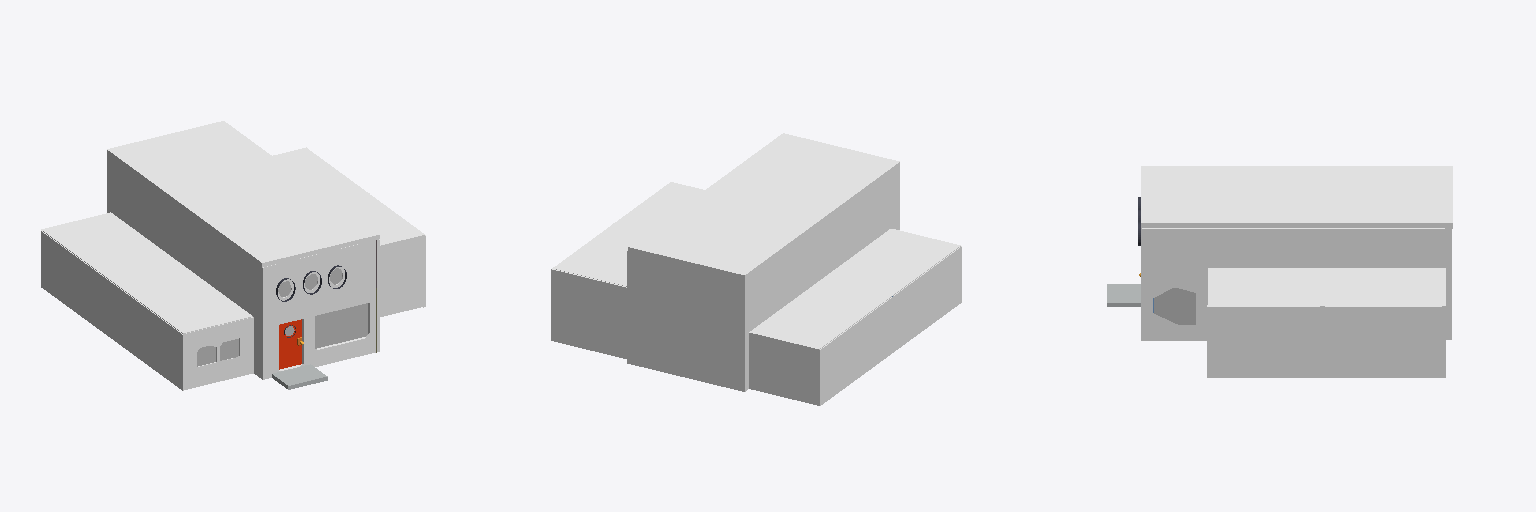
The picture shows the model from 3 angles: view 1: azimuth 30°, elevation 25°; view 2: azimuth 150°, elevation 25°; view 3: azimuth 270°, elevation 25°; orthographic projection.
Parts seen in each view (by area): view 1: pasted__pCube7 polySurface102, pasted__pCube7 polySurface55, pasted__pCube7 polySurface59, pasted__pCube7 polySurface87, pasted__pCube7 polySurface61, pasted__pCube7 polySurface101, pasted__pCube7 polySurface63, pasted__pCube7 polySurface118, pasted__pCube7 polySurface30, pasted__pCube7 polySurface117, pasted__pCube7 polySurface90; view 2: pasted__pCube7 polySurface102, pasted__pCube7 polySurface119, pasted__pCube7 polySurface55, pasted__pCube7 polySurface87, pasted__pCube7 polySurface61, pasted__pCube7 polySurface56, pasted__pCube7 polySurface101, pasted__pCube7 polySurface103; view 3: pasted__pCube7 polySurface102, pasted__pCube7 polySurface113, pasted__pCube7 polySurface115, pasted__pCube7 polySurface101, pasted__pCube7 polySurface34, pasted__pCube7 polySurface90, pasted__pCube7 polySurface119.
Boxes of the visible parts, box(x1,y1,x2,y2) form: pasted__pCube7 polySurface102: box(107, 121, 379, 267); pasted__pCube7 polySurface55: box(41, 212, 252, 333); pasted__pCube7 polySurface59: box(259, 239, 378, 379); pasted__pCube7 polySurface87: box(108, 156, 260, 377); pasted__pCube7 polySurface61: box(41, 230, 184, 390); pasted__pCube7 polySurface101: box(273, 148, 424, 247); pasted__pCube7 polySurface63: box(185, 317, 251, 389); pasted__pCube7 polySurface118: box(380, 237, 422, 316); pasted__pCube7 polySurface30: box(315, 303, 367, 348); pasted__pCube7 polySurface117: box(279, 319, 301, 369); pasted__pCube7 polySurface90: box(272, 364, 327, 389); pasted__pCube7 polySurface102: box(628, 133, 899, 280); pasted__pCube7 polySurface119: box(627, 251, 745, 391); pasted__pCube7 polySurface55: box(749, 229, 960, 350); pasted__pCube7 polySurface87: box(746, 169, 897, 390); pasted__pCube7 polySurface61: box(817, 246, 961, 405); pasted__pCube7 polySurface56: box(551, 267, 626, 358); pasted__pCube7 polySurface101: box(553, 182, 704, 286); pasted__pCube7 polySurface103: box(750, 335, 816, 404); pasted__pCube7 polySurface102: box(1141, 166, 1452, 228); pasted__pCube7 polySurface113: box(1207, 305, 1441, 377); pasted__pCube7 polySurface115: box(1141, 228, 1444, 340); pasted__pCube7 polySurface101: box(1208, 268, 1443, 305); pasted__pCube7 polySurface34: box(1154, 288, 1195, 324); pasted__pCube7 polySurface90: box(1107, 284, 1140, 306); pasted__pCube7 polySurface119: box(1445, 228, 1451, 339).
Size of the model in its own units: 27.41 by 11.54 by 30.6.
Materials: 18 (13 with a texture image).